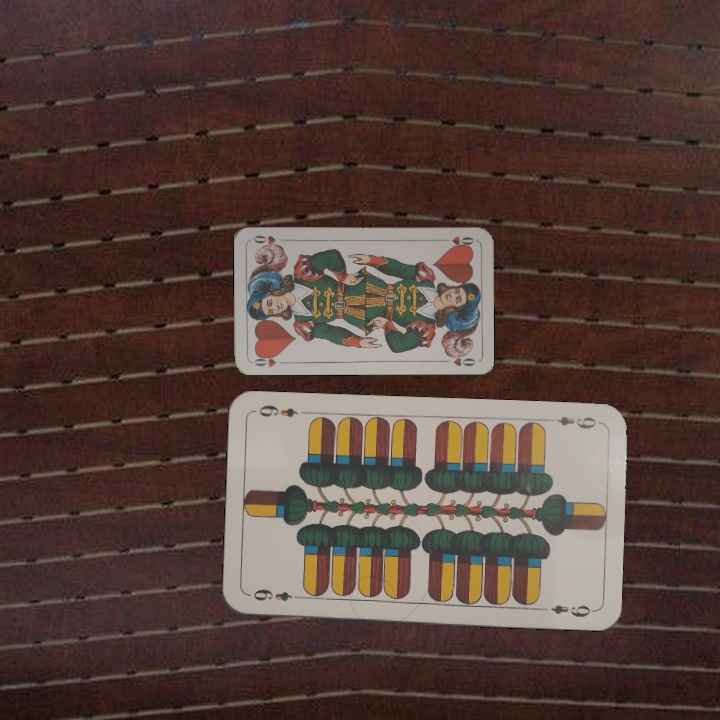E9: (249, 585, 305, 604), (553, 412, 599, 431)
HO: (249, 351, 289, 369), (437, 232, 477, 249)
